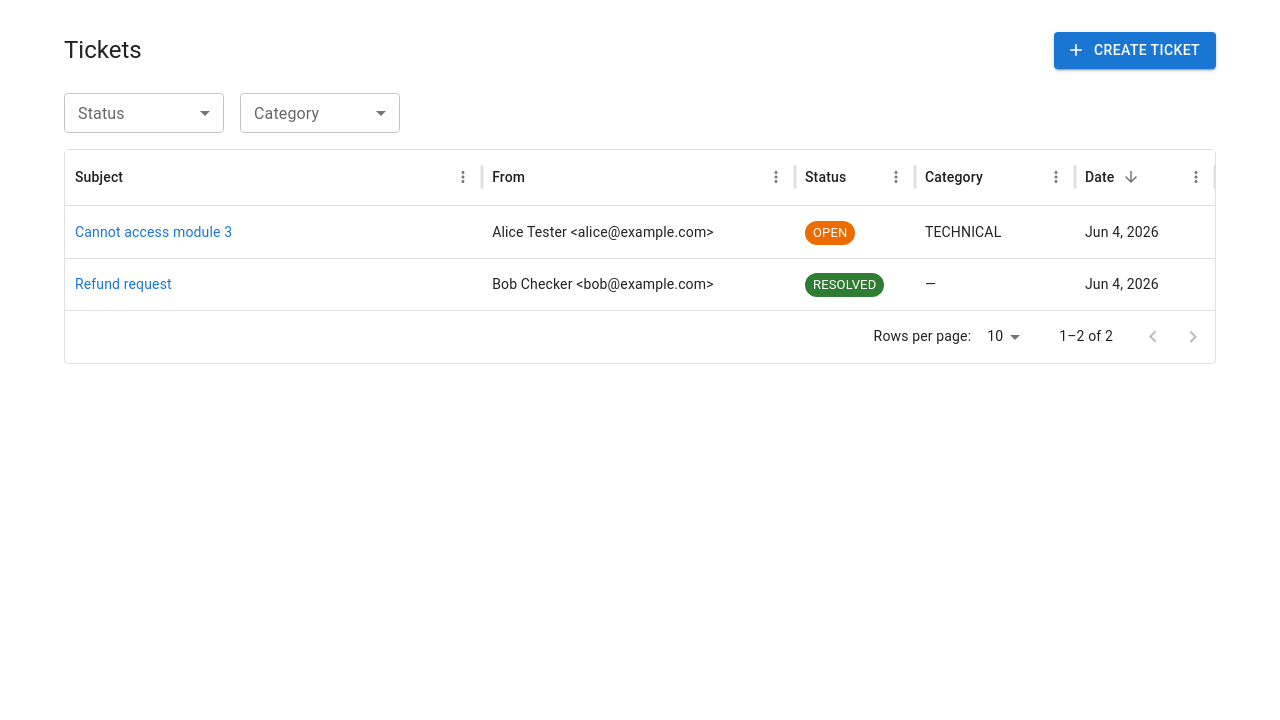
Test: TicketsPage › "Create Ticket" dialog › shows required-field validation errors when submitting an empty form
Check: the link "Cannot access module 3" is shown, box [75, 224, 232, 240]
Click the button "Create Ticket".
click(1135, 50)  # box [1054, 32, 1216, 68]
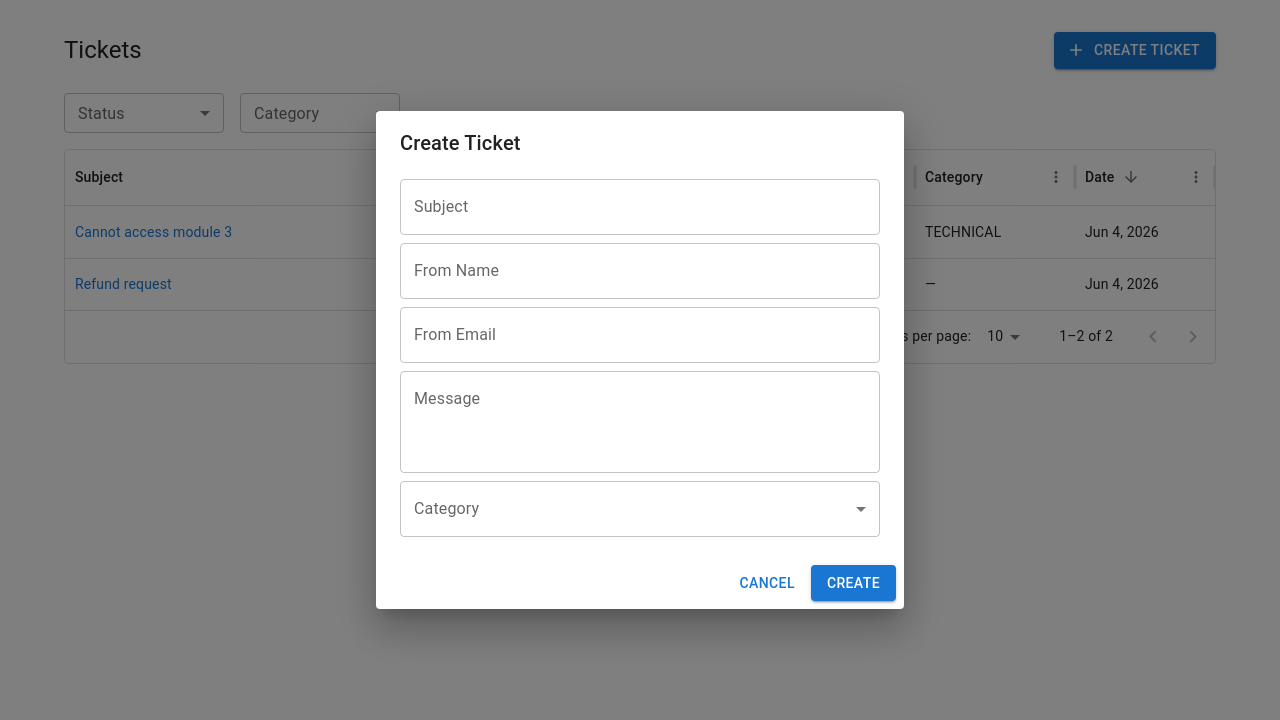
Click the button "Create".
click(853, 583)  # box [811, 565, 896, 601]
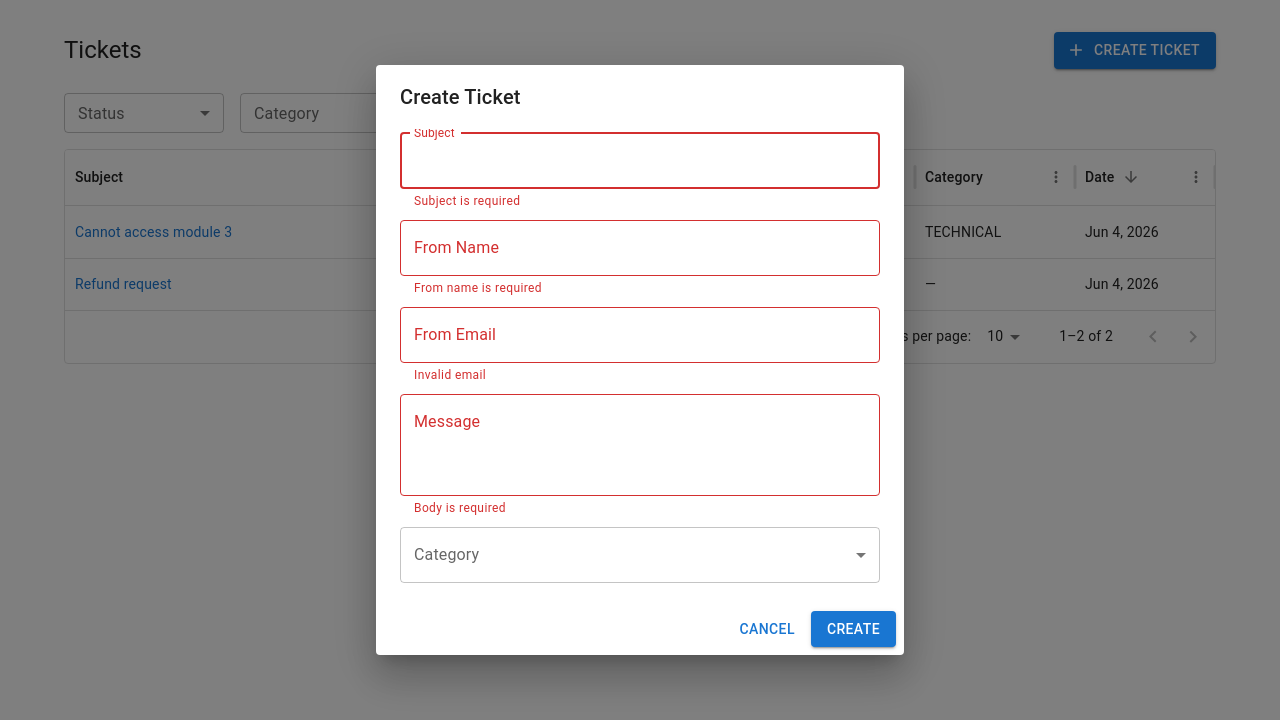
Check: the text "Subject is required" is shown, box [414, 194, 520, 208]
Check: the text "From name is required" is shown, box [414, 281, 542, 295]
Check: the text "Invalid email" is shown, box [414, 368, 486, 382]
